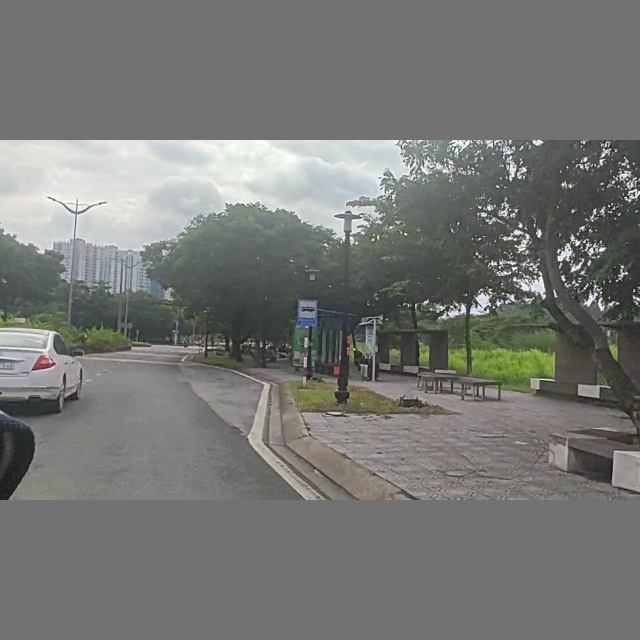I.434a: (294, 298, 323, 329)
